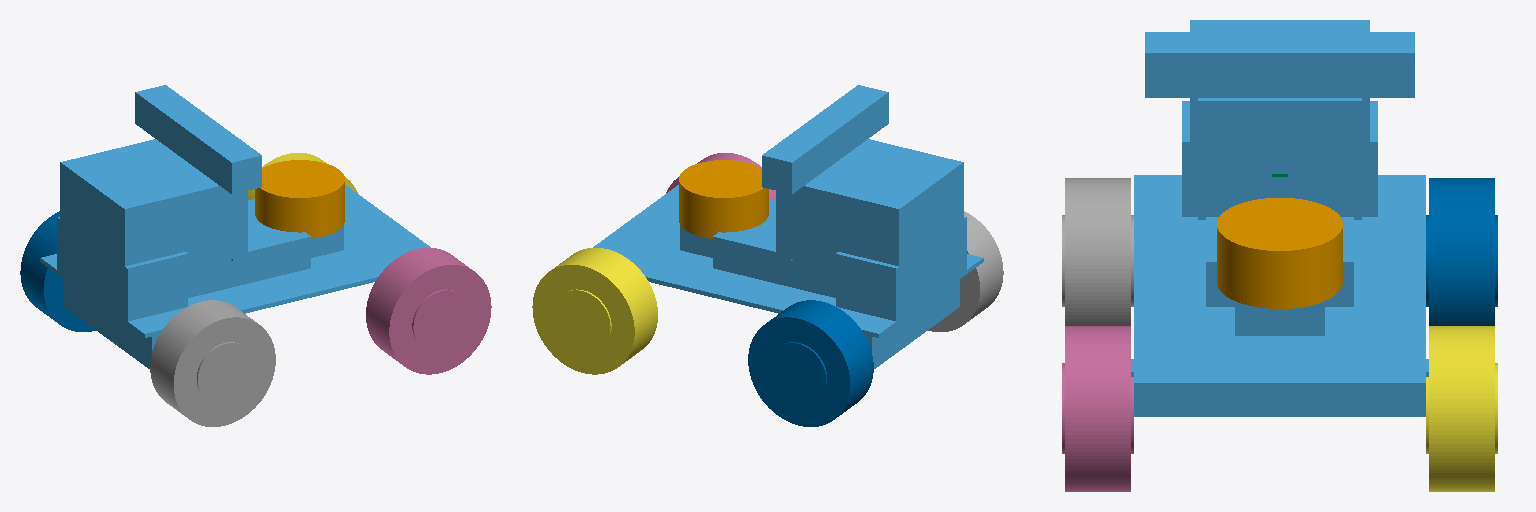
URDF robot description (jetacker):
<?xml version="1.0" ?>
<robot name="jetacker">
  <link name="base_footprint"/>
  <link name="base_link">
    <inertial>
      <origin xyz="0.0410741 0 0.0586049" rpy="0 0 0"/>
      <mass value="4.05"/>
      <inertia ixx="0.0123744304" iyy="0.027402154" izz="0.0272838653" ixy="0" ixz="0.00364973148" iyz="0"/>
    </inertial>
    <visual>
      <origin xyz="0 0 0" rpy="0 0 0"/>
      <geometry>
        <mesh filename="../meshes/base_link.stl" scale="0.001 0.001 0.001"/>
      </geometry>
    </visual>
    <collision>
      <origin xyz="0.095 0 0.075" rpy="0 0 0"/>
      <geometry>
        <box size="0.32 0.19 0.2"/>
      </geometry>
    </collision>
  </link>
  <joint name="base_joint" type="fixed">
    <origin xyz="0 0 0.0505" rpy="0 0 0"/>
    <parent link="base_footprint"/>
    <child link="base_link"/>
  </joint>
  <link name="front_left_steering_link">
    <inertial>
      <origin xyz="0 0 0" rpy="0 0 0"/>
      <mass value="0.05"/>
      <inertia ixx="1.16666667e-05" iyy="1.16666667e-05" izz="2.5e-06" ixy="0" ixz="0" iyz="0"/>
    </inertial>
    <visual>
      <origin xyz="-0.213 -0.111 0" rpy="0 0 0"/>
      <geometry>
        <mesh filename="../meshes/front_left_steering_link.stl" scale="0.001 0.001 0.001"/>
      </geometry>
    </visual>
  </link>
  <joint name="front_left_steering_joint" type="revolute">
    <origin xyz="0.213 0.111 0" rpy="0 0 0"/>
    <parent link="base_link"/>
    <child link="front_left_steering_link"/>
    <axis xyz="0 0 1"/>
    <limit lower="-0.5236" upper="0.5236" effort="2" velocity="6"/>
  </joint>
  <link name="front_left_wheel_link">
    <inertial>
      <origin xyz="0 0 0" rpy="0 0 0"/>
      <mass value="0.12"/>
      <inertia ixx="9.25075e-05" iyy="0.000153015" izz="9.25075e-05" ixy="0" ixz="0" iyz="0"/>
    </inertial>
    <visual>
      <origin xyz="-0.213 -0.111 0" rpy="0 0 0"/>
      <geometry>
        <mesh filename="../meshes/front_left_wheel_link.stl" scale="0.001 0.001 0.001"/>
      </geometry>
    </visual>
    <collision>
      <origin xyz="0 0 0" rpy="1.5708 0 0"/>
      <geometry>
        <cylinder radius="0.0505" length="0.04"/>
      </geometry>
    </collision>
  </link>
  <joint name="front_left_wheel_joint" type="continuous">
    <origin xyz="0 0 0" rpy="0 0 0"/>
    <parent link="front_left_steering_link"/>
    <child link="front_left_wheel_link"/>
    <axis xyz="0 1 0"/>
  </joint>
  <link name="rear_left_wheel_link">
    <inertial>
      <origin xyz="0 0 0" rpy="0 0 0"/>
      <mass value="0.12"/>
      <inertia ixx="9.25075e-05" iyy="0.000153015" izz="9.25075e-05" ixy="0" ixz="0" iyz="0"/>
    </inertial>
    <visual>
      <origin xyz="0 -0.111 0" rpy="0 0 0"/>
      <geometry>
        <mesh filename="../meshes/rear_left_wheel_link.stl" scale="0.001 0.001 0.001"/>
      </geometry>
    </visual>
    <collision>
      <origin xyz="0 0 0" rpy="1.5708 0 0"/>
      <geometry>
        <cylinder radius="0.0505" length="0.04"/>
      </geometry>
    </collision>
  </link>
  <joint name="rear_left_wheel_joint" type="continuous">
    <origin xyz="0 0.111 0" rpy="0 0 0"/>
    <parent link="base_link"/>
    <child link="rear_left_wheel_link"/>
    <axis xyz="0 1 0"/>
    <limit effort="1.5" velocity="40"/>
  </joint>
  <link name="front_right_steering_link">
    <inertial>
      <origin xyz="0 0 0" rpy="0 0 0"/>
      <mass value="0.05"/>
      <inertia ixx="1.16666667e-05" iyy="1.16666667e-05" izz="2.5e-06" ixy="0" ixz="0" iyz="0"/>
    </inertial>
    <visual>
      <origin xyz="-0.213 0.111 0" rpy="0 0 0"/>
      <geometry>
        <mesh filename="../meshes/front_right_steering_link.stl" scale="0.001 0.001 0.001"/>
      </geometry>
    </visual>
  </link>
  <joint name="front_right_steering_joint" type="revolute">
    <origin xyz="0.213 -0.111 0" rpy="0 0 0"/>
    <parent link="base_link"/>
    <child link="front_right_steering_link"/>
    <axis xyz="0 0 1"/>
    <limit lower="-0.5236" upper="0.5236" effort="2" velocity="6"/>
  </joint>
  <link name="front_right_wheel_link">
    <inertial>
      <origin xyz="0 0 0" rpy="0 0 0"/>
      <mass value="0.12"/>
      <inertia ixx="9.25075e-05" iyy="0.000153015" izz="9.25075e-05" ixy="0" ixz="0" iyz="0"/>
    </inertial>
    <visual>
      <origin xyz="-0.213 0.111 0" rpy="0 0 0"/>
      <geometry>
        <mesh filename="../meshes/front_right_wheel_link.stl" scale="0.001 0.001 0.001"/>
      </geometry>
    </visual>
    <collision>
      <origin xyz="0 0 0" rpy="1.5708 0 0"/>
      <geometry>
        <cylinder radius="0.0505" length="0.04"/>
      </geometry>
    </collision>
  </link>
  <joint name="front_right_wheel_joint" type="continuous">
    <origin xyz="0 0 0" rpy="0 0 0"/>
    <parent link="front_right_steering_link"/>
    <child link="front_right_wheel_link"/>
    <axis xyz="0 1 0"/>
  </joint>
  <link name="rear_right_wheel_link">
    <inertial>
      <origin xyz="0 0 0" rpy="0 0 0"/>
      <mass value="0.12"/>
      <inertia ixx="9.25075e-05" iyy="0.000153015" izz="9.25075e-05" ixy="0" ixz="0" iyz="0"/>
    </inertial>
    <visual>
      <origin xyz="0 0.111 0" rpy="0 0 0"/>
      <geometry>
        <mesh filename="../meshes/rear_right_wheel_link.stl" scale="0.001 0.001 0.001"/>
      </geometry>
    </visual>
    <collision>
      <origin xyz="0 0 0" rpy="1.5708 0 0"/>
      <geometry>
        <cylinder radius="0.0505" length="0.04"/>
      </geometry>
    </collision>
  </link>
  <joint name="rear_right_wheel_joint" type="continuous">
    <origin xyz="0 -0.111 0" rpy="0 0 0"/>
    <parent link="base_link"/>
    <child link="rear_right_wheel_link"/>
    <axis xyz="0 1 0"/>
    <limit effort="1.5" velocity="40"/>
  </joint>
  <link name="laser">
    <inertial>
      <origin xyz="0 0 0" rpy="0 0 0"/>
      <mass value="0.185"/>
      <inertia ixx="9.20028125e-05" iyy="9.20028125e-05" izz="0.000137108125" ixy="0" ixz="0" iyz="0"/>
    </inertial>
    <visual>
      <origin xyz="-0.15 -0 -0.075" rpy="0 0 0"/>
      <geometry>
        <mesh filename="../meshes/laser.stl" scale="0.001 0.001 0.001"/>
      </geometry>
    </visual>
  </link>
  <joint name="laser_joint" type="fixed">
    <origin xyz="0.15 0 0.075" rpy="0 0 0"/>
    <parent link="base_link"/>
    <child link="laser"/>
  </joint>
  <link name="camera_link">
    <inertial>
      <origin xyz="0 0 0" rpy="0 0 0"/>
      <mass value="0.3"/>
      <inertia ixx="0.000703125" iyy="4.5e-05" izz="0.000703125" ixy="0" ixz="0" iyz="0"/>
    </inertial>
    <visual>
      <origin xyz="-0.05 -0 -0.155" rpy="0 0 0"/>
      <geometry>
        <mesh filename="../meshes/camera_link.stl" scale="0.001 0.001 0.001"/>
      </geometry>
    </visual>
  </link>
  <joint name="camera_link_joint" type="fixed">
    <origin xyz="0.05 0 0.155" rpy="0 0 0"/>
    <parent link="base_link"/>
    <child link="camera_link"/>
  </joint>
  <link name="imu_link">
    <inertial>
      <origin xyz="0 0 0" rpy="0 0 0"/>
      <mass value="0.01"/>
      <inertia ixx="8.66666667e-08" iyy="8.66666667e-08" izz="1.66666667e-07" ixy="0" ixz="0" iyz="0"/>
    </inertial>
    <visual>
      <origin xyz="-0.065 -0 -0.09" rpy="0 0 0"/>
      <geometry>
        <mesh filename="../meshes/imu_link.stl" scale="0.001 0.001 0.001"/>
      </geometry>
    </visual>
  </link>
  <joint name="imu_link_joint" type="fixed">
    <origin xyz="0.065 0 0.09" rpy="0 0 0"/>
    <parent link="base_link"/>
    <child link="imu_link"/>
  </joint>
  <link name="camera_color_optical_frame"/>
  <joint name="camera_color_optical_joint" type="fixed">
    <origin xyz="0 0 0" rpy="-1.5708 0 -1.5708"/>
    <parent link="camera_link"/>
    <child link="camera_color_optical_frame"/>
  </joint>
  <link name="camera_depth_optical_frame"/>
  <joint name="camera_depth_optical_joint" type="fixed">
    <origin xyz="0 0 0" rpy="-1.5708 0 -1.5708"/>
    <parent link="camera_link"/>
    <child link="camera_depth_optical_frame"/>
  </joint>
</robot>

--- Facts derived from the render (not from the file) ---
The picture shows the robot from 3 angles, left to right: view 1: azimuth 30°, elevation 25°; view 2: azimuth 150°, elevation 25°; view 3: azimuth 270°, elevation 25°; orthographic projection.
Model jetacker with 13 links and 12 joints (2 revolute, 4 continuous, 6 fixed), rooted at base_footprint, posed all joints at 0.
Links seen in each view (by area): view 1: base_link, rear_right_wheel_link, front_right_wheel_link, camera_link, laser, rear_left_wheel_link; view 2: base_link, rear_left_wheel_link, front_left_wheel_link, camera_link, laser, rear_right_wheel_link; view 3: base_link, camera_link, laser, front_left_wheel_link, front_right_wheel_link, rear_left_wheel_link, rear_right_wheel_link.
Link boxes in pixels (x1,y1,x2,y2): base_link: (40,139,430,368); rear_right_wheel_link: (150,300,275,426); front_right_wheel_link: (366,248,491,374); camera_link: (135,85,261,193); laser: (255,160,344,238); rear_left_wheel_link: (20,211,95,331); base_link: (593,139,983,368); rear_left_wheel_link: (748,300,873,426); front_left_wheel_link: (532,248,657,374); camera_link: (762,85,888,193); laser: (679,160,768,238); rear_right_wheel_link: (928,211,1003,331); base_link: (1131,20,1428,416); camera_link: (1145,32,1414,97); laser: (1217,198,1342,308); front_left_wheel_link: (1426,326,1497,491); front_right_wheel_link: (1062,326,1133,491); rear_left_wheel_link: (1426,178,1497,325); rear_right_wheel_link: (1062,178,1133,325).
Bounding box of the posed robot: 0.3185 × 0.266 × 0.2205 m (x, y, z).
Meshes: 10 distinct files referenced, 10 mesh visuals loaded (10 binary STL).
